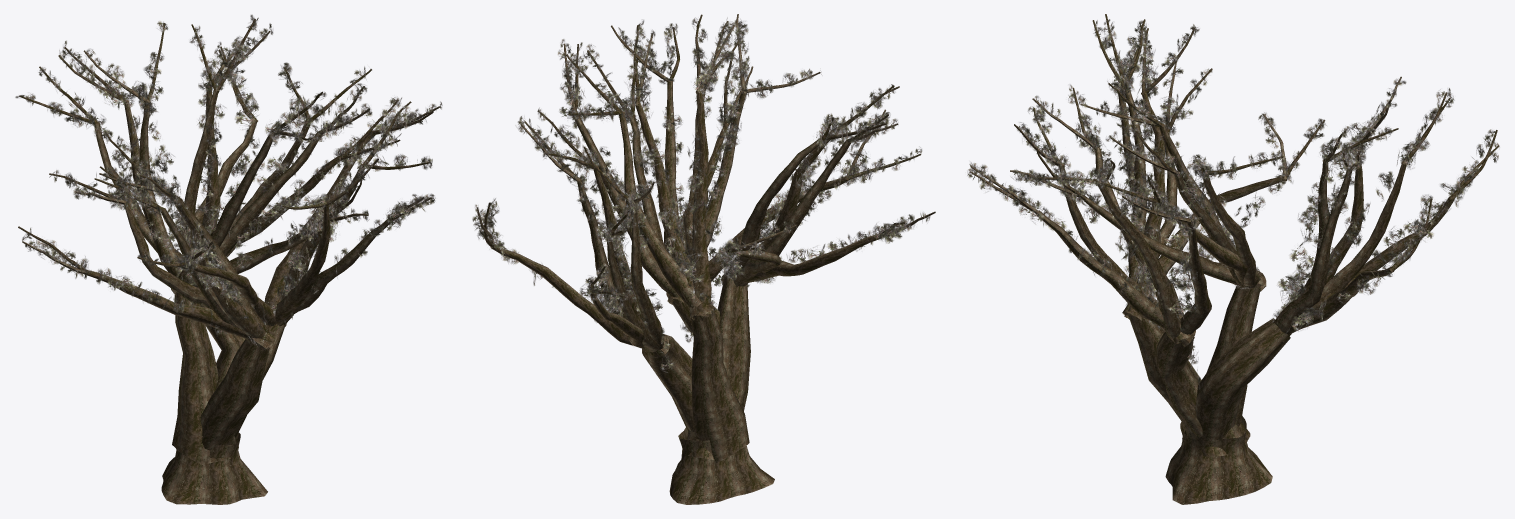
File: blossom_4x_4.glb
3 renders of one model, left to right at view 1: azimuth 30°, elevation 25°; view 2: azimuth 150°, elevation 25°; view 3: azimuth 270°, elevation 25°, orthographic. The views are drawn at different scales.
Visible parts, largest first — view 1: blossom; view 2: blossom; view 3: blossom.
Boxes of the visible parts, x1,y1,x2,y2 form: blossom: [15, 15, 442, 504]; blossom: [472, 14, 935, 504]; blossom: [967, 14, 1499, 504].
Size of the model in its own units: 65.56 by 66.67 by 75.09.
2 materials, 2 textured.
